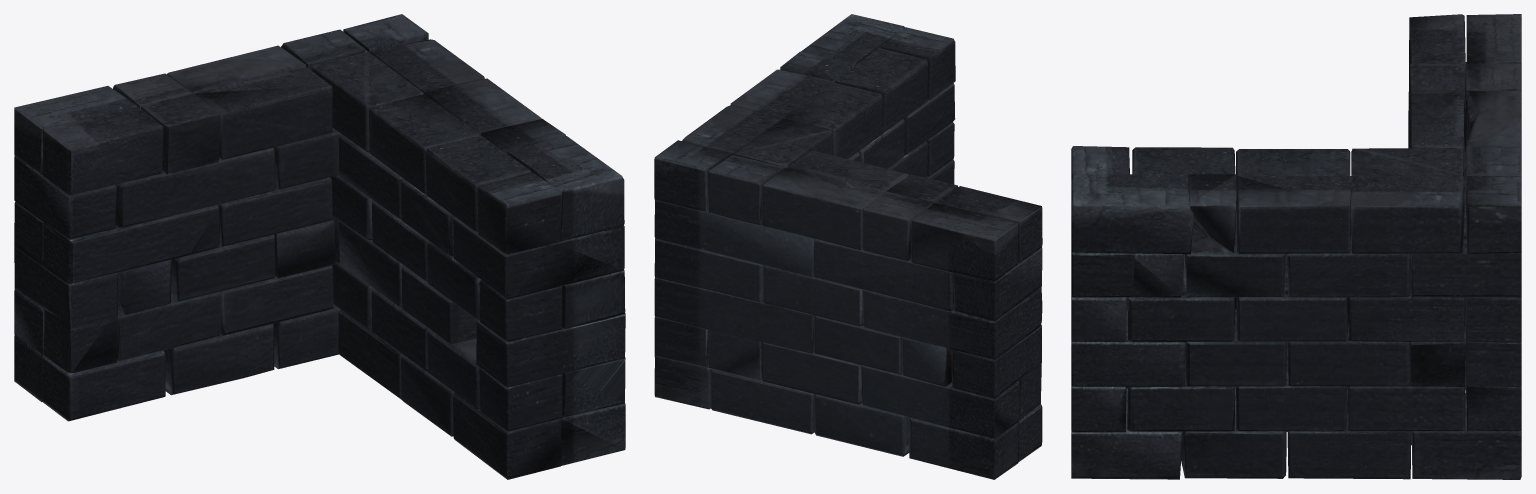
The model's file is wall-corner.glb.
The picture shows the model from 3 angles, left to right: view 1: azimuth 30°, elevation 25°; view 2: azimuth 150°, elevation 25°; view 3: azimuth 270°, elevation 25°; orthographic projection. The views are drawn at different scales.
Bounding box in the file's own units: 1 × 0.6806 × 1.
Materials: 1 (1 with a texture image).
